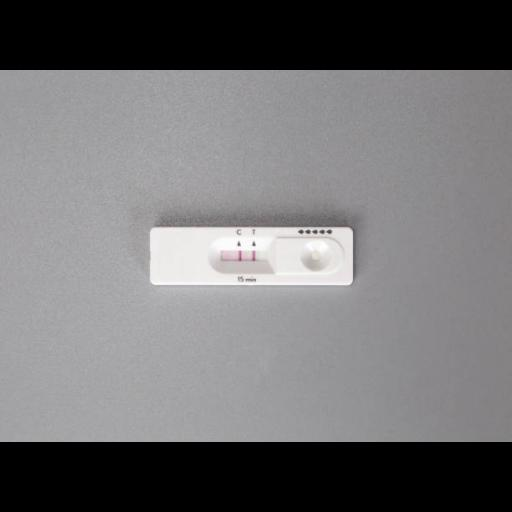Pos: (150, 226, 352, 284)
